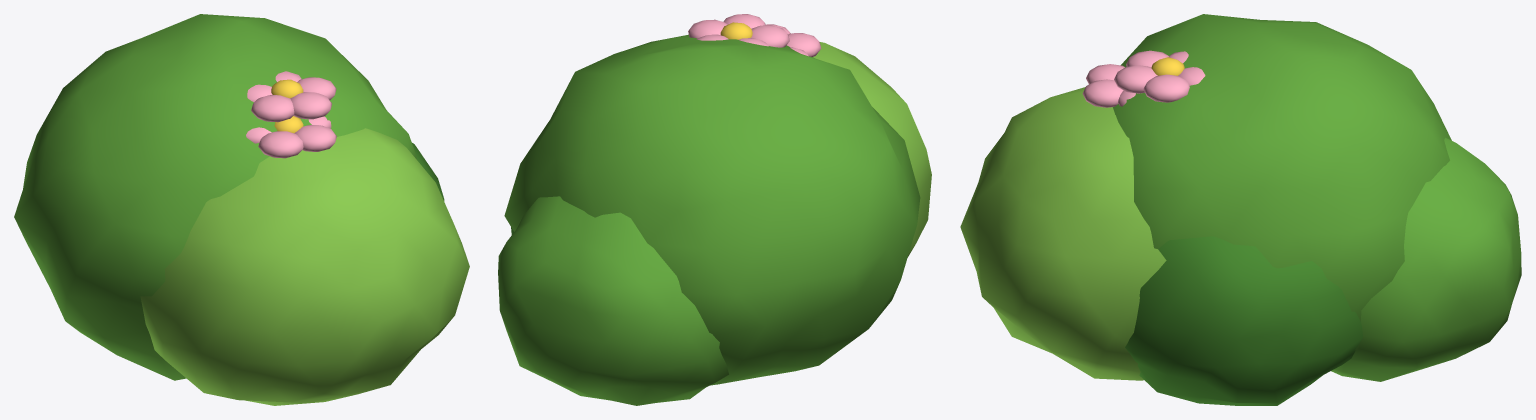
The model's file is FlowerBushPink.fbx.
3 renders of one model, left to right at view 1: azimuth 30°, elevation 25°; view 2: azimuth 150°, elevation 25°; view 3: azimuth 270°, elevation 25°, orthographic. The views are drawn at different scales.
Parts seen in each view (by area): view 1: FlowerBushPink; view 2: FlowerBushPink; view 3: FlowerBushPink.
Boxes of the visible parts, x1=… form: FlowerBushPink: x1=14, y1=14, x2=469, y2=405; FlowerBushPink: x1=498, y1=14, x2=931, y2=405; FlowerBushPink: x1=960, y1=14, x2=1521, y2=405.
Bounding box in the file's own units: 1.01 × 0.8239 × 1.29.
Materials: 1 (1 with a texture image).
